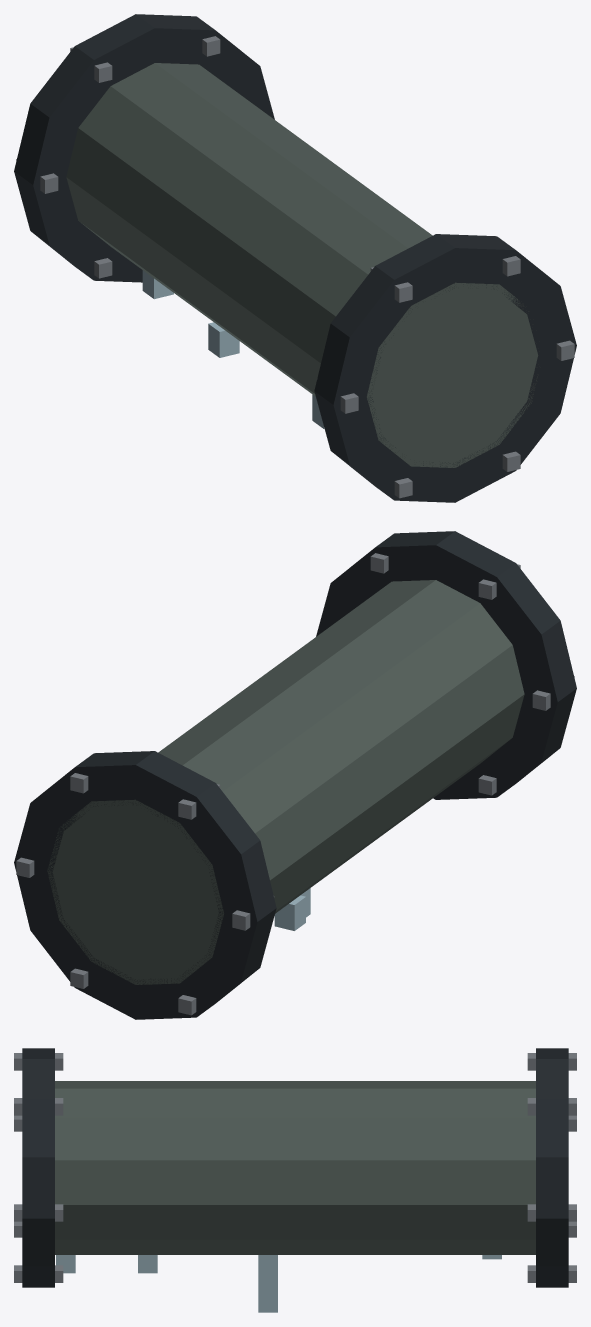
The model's file is bunker-pipe-flange.glb.
3 renders of one model, top to bottom at view 1: azimuth 30°, elevation 25°; view 2: azimuth 150°, elevation 25°; view 3: azimuth 270°, elevation 25°, orthographic. The views are drawn at different scales.
Visible parts, largest first — view 1: bunker-pipe-flange; view 2: bunker-pipe-flange; view 3: bunker-pipe-flange.
Boxes of the visible parts, <box> form: bunker-pipe-flange: <box>14,14,576,502</box>; bunker-pipe-flange: <box>14,531,576,1019</box>; bunker-pipe-flange: <box>14,1048,576,1312</box>.
Size of the model in its own units: 0.44 by 0.49 by 1.03.
